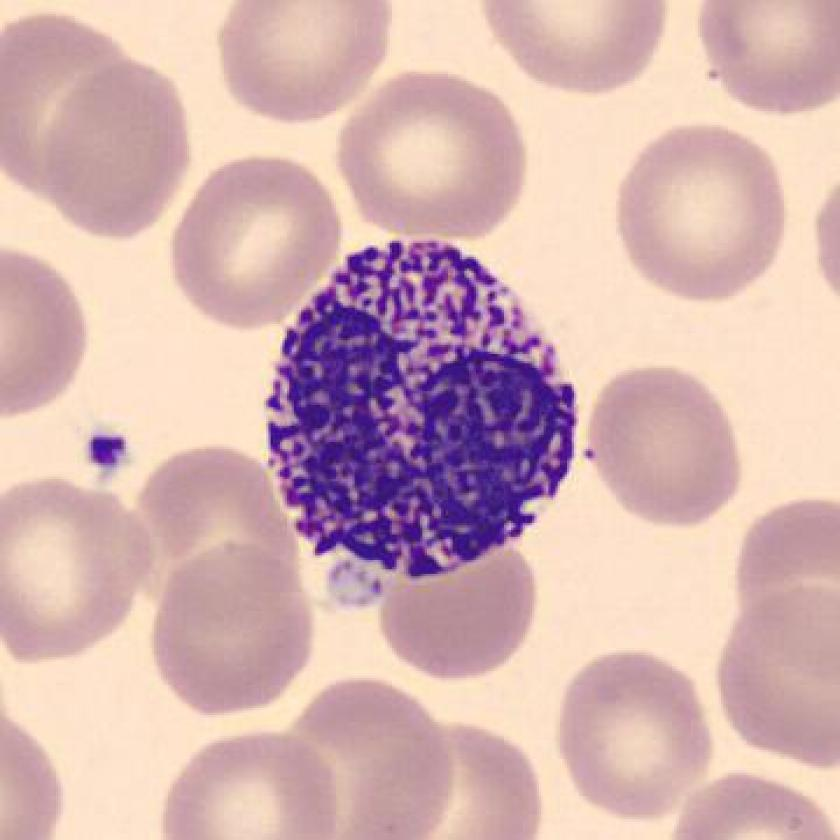basophil: (265, 228, 589, 584)
